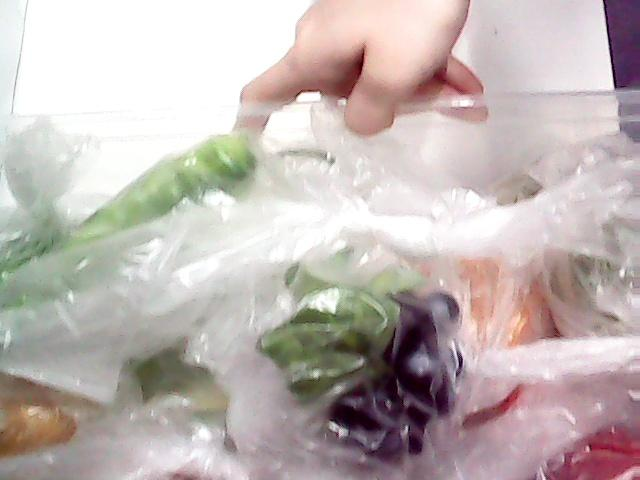apple: (537, 431, 639, 477)
carrot: (458, 238, 554, 346), (490, 340, 570, 420)
grape: (279, 251, 469, 453)
napa cabbage: (111, 333, 261, 459)
pepper: (1, 124, 268, 328)
potato: (1, 360, 107, 464)
